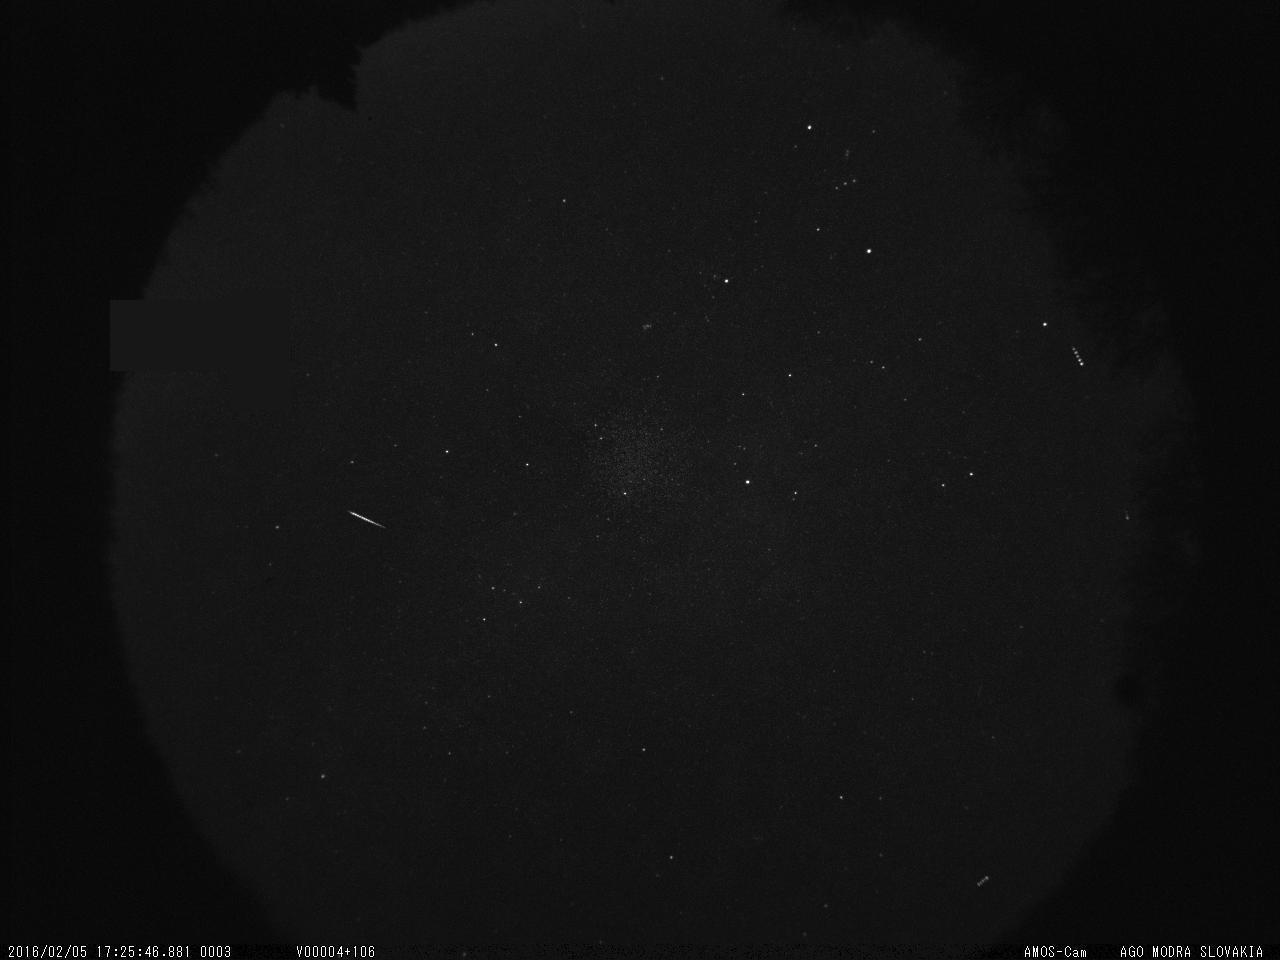meteor: (340, 504, 393, 538)
satelite: (1065, 341, 1090, 375)
